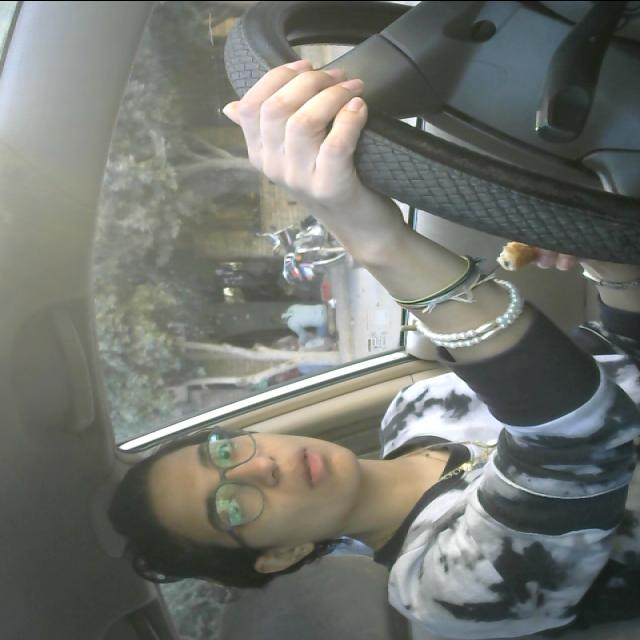eating: (494, 235, 552, 271)
